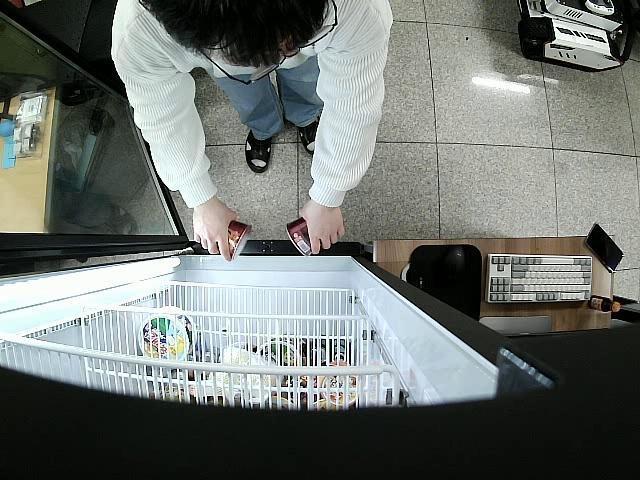06_nuguri_S: (215, 220, 252, 264), (284, 217, 322, 258)
